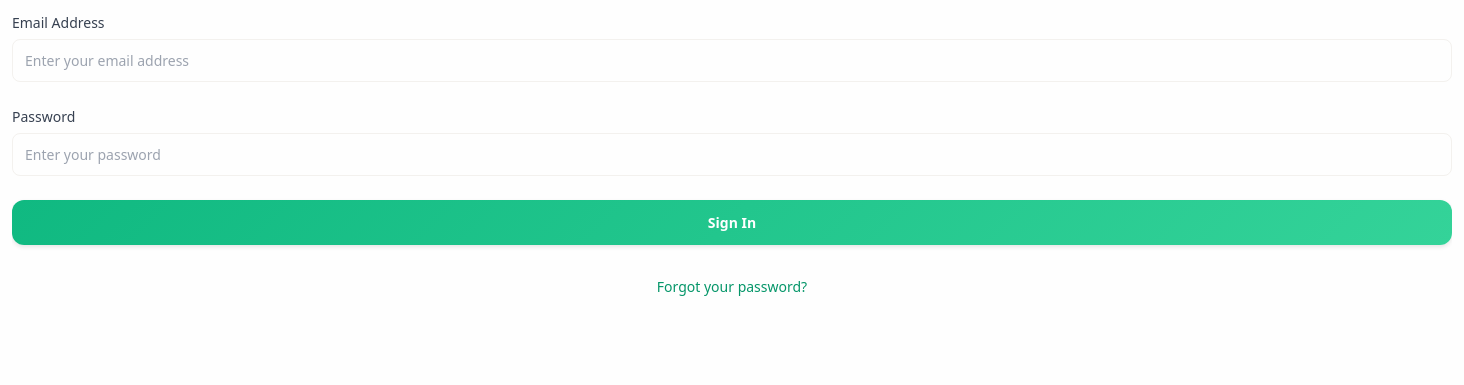
Test: Authentication Forms › SignInForm › Form Submission › handles server errors gracefully
This screenshot has width=1464, height=385.
Fill and submit form
Type "test@example.com" into the field labelled "Email Address".
click(732, 60); type("test@example.com")  # box [12,39,1452,82]
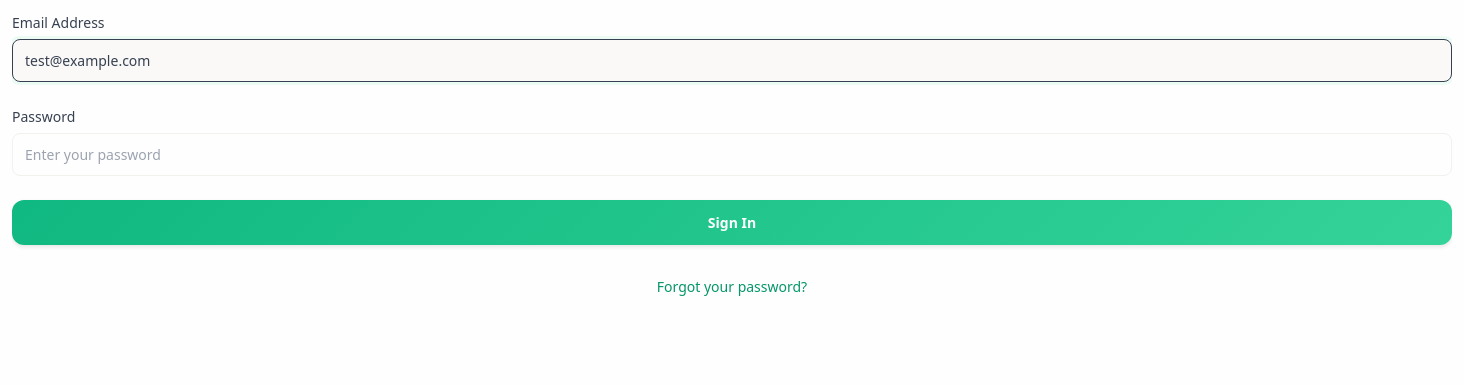
Type "password123" into the password field labelled "Password".
click(732, 154); type("password123")  # box [12,133,1452,176]
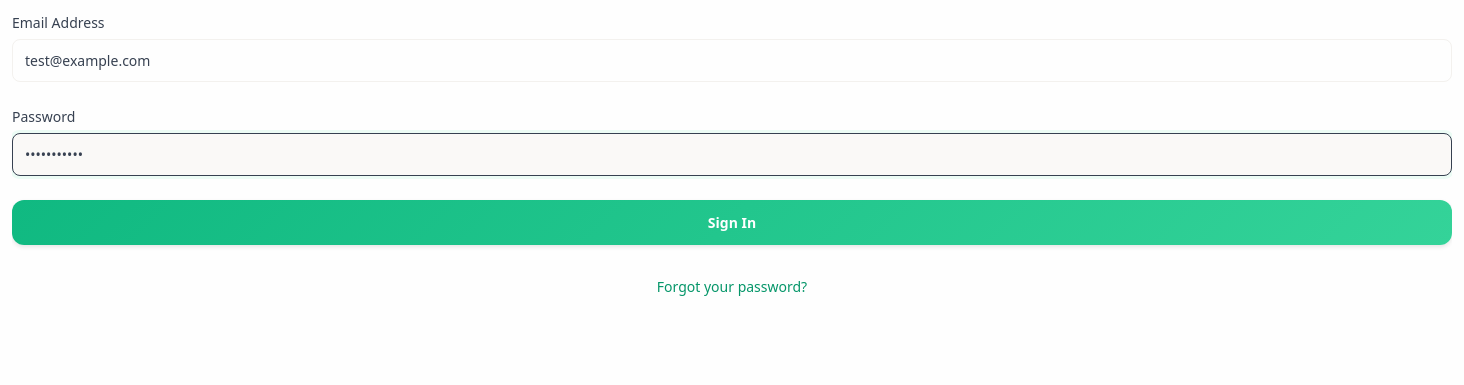
Click the button "Sign In".
click(732, 222)  # box [12,200,1452,245]
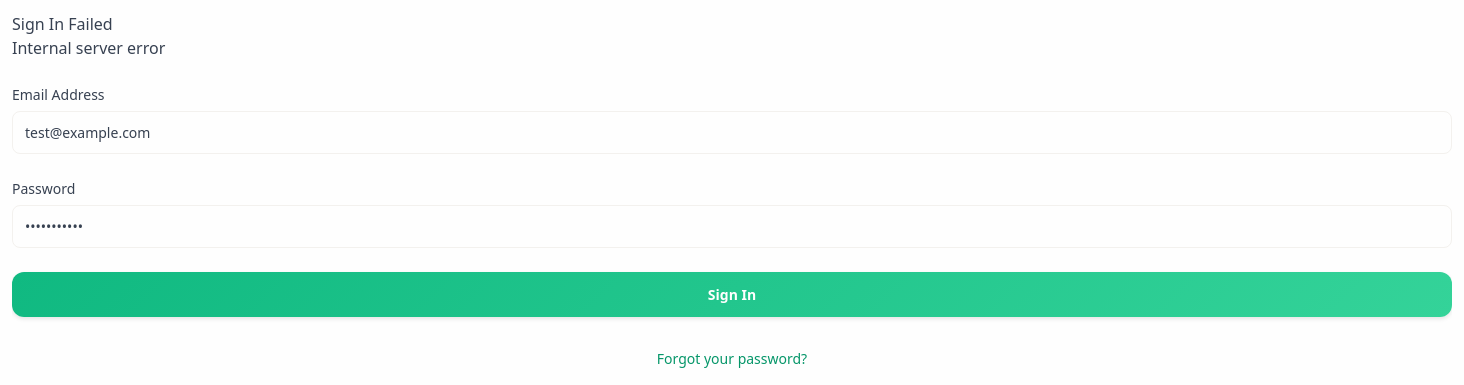
Expected: the list item "Internal server error" is shown, [12,37,165,59]
